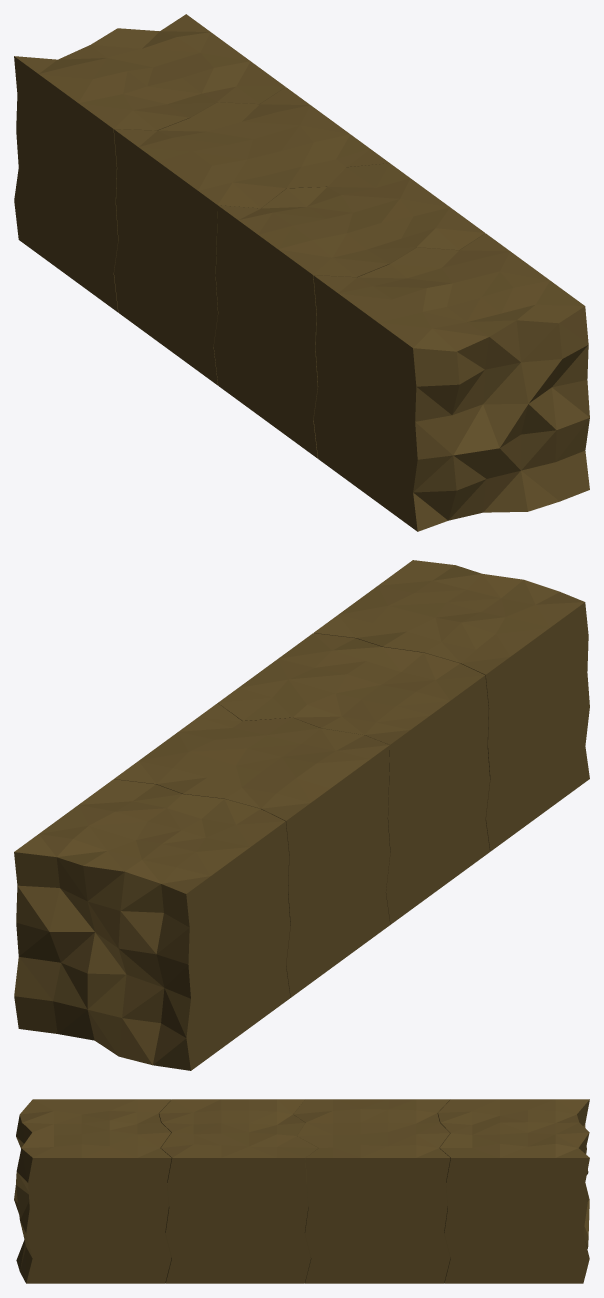
Rendered from SM_path_alt_DE.fbx.
3 views of the same model, one above another, from view 1: azimuth 30°, elevation 25°; view 2: azimuth 150°, elevation 25°; view 3: azimuth 270°, elevation 25° (orthographic). The views are drawn at different scales.
Visible parts, largest first — view 1: SM_path_1_alt_DE, SM_path_rightmid_alt_DE, SM_path_2_alt_DE, SM_path_leftmid_alt_DE; view 2: SM_path_2_alt_DE, SM_path_leftmid_alt_DE, SM_path_1_alt_DE, SM_path_rightmid_alt_DE; view 3: SM_path_1_alt_DE, SM_path_2_alt_DE, SM_path_rightmid_alt_DE, SM_path_leftmid_alt_DE.
Boxes of the visible parts, x1,y1,x2,y2 form: SM_path_1_alt_DE: [313, 233, 589, 531]; SM_path_rightmid_alt_DE: [114, 87, 389, 385]; SM_path_2_alt_DE: [14, 14, 285, 312]; SM_path_leftmid_alt_DE: [213, 163, 485, 458]; SM_path_2_alt_DE: [14, 779, 290, 1070]; SM_path_leftmid_alt_DE: [218, 633, 489, 924]; SM_path_1_alt_DE: [314, 560, 589, 851]; SM_path_rightmid_alt_DE: [114, 703, 390, 997]; SM_path_1_alt_DE: [14, 1099, 171, 1283]; SM_path_2_alt_DE: [438, 1099, 589, 1283]; SM_path_rightmid_alt_DE: [293, 1099, 450, 1283]; SM_path_leftmid_alt_DE: [159, 1099, 318, 1283].
Size of the model in its own units: 120 by 498 by 122.
